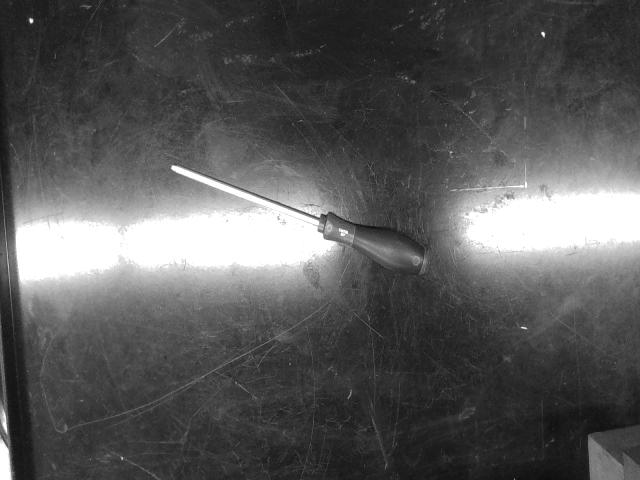Screwdriver: (171, 165, 430, 275)
